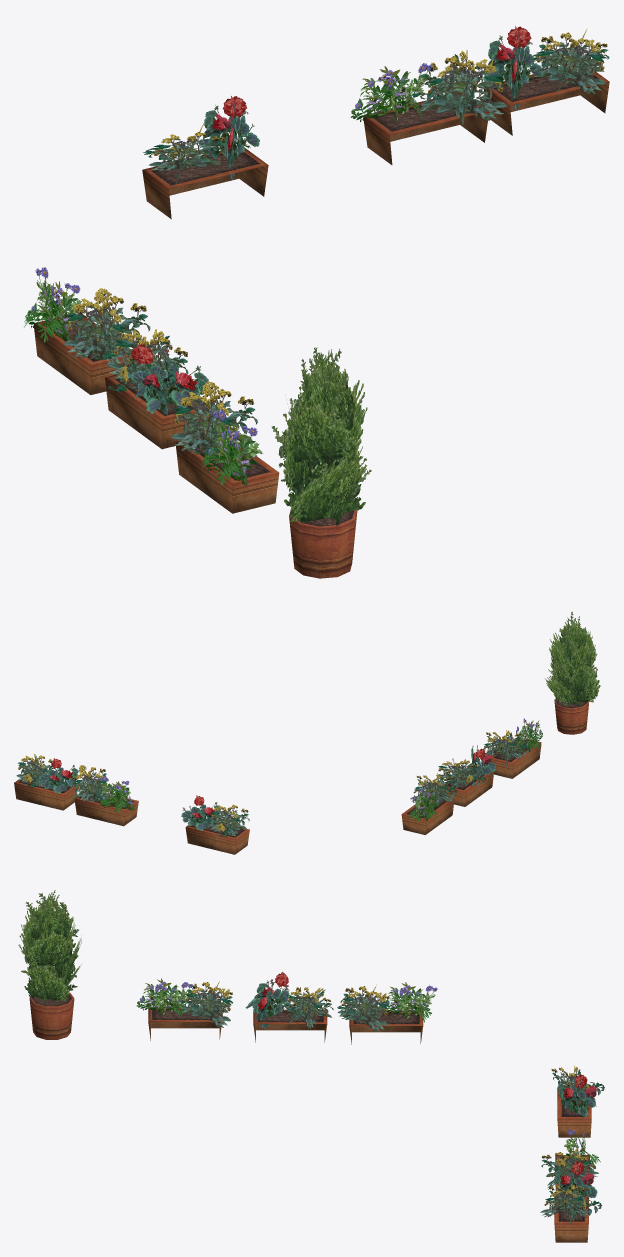
File: MhouseB_Base_01_Plants.fbx
The picture shows the model from 3 angles, top to bottom: view 1: azimuth 30°, elevation 25°; view 2: azimuth 150°, elevation 25°; view 3: azimuth 270°, elevation 25°; orthographic projection. The views are drawn at different scales.
Visible parts, largest first — view 1: ct2_03_n1_yc1_MhouseplantsB00_01; view 2: ct2_03_n1_yc1_MhouseplantsB00_01; view 3: ct2_03_n1_yc1_MhouseplantsB00_01.
Boxes of the visible parts, x1,y1,x2,y2 form: ct2_03_n1_yc1_MhouseplantsB00_01: (24, 26, 609, 578); ct2_03_n1_yc1_MhouseplantsB00_01: (14, 611, 600, 854); ct2_03_n1_yc1_MhouseplantsB00_01: (18, 890, 604, 1242).
Size of the model in its own units: 1344 by 382 by 1446.
